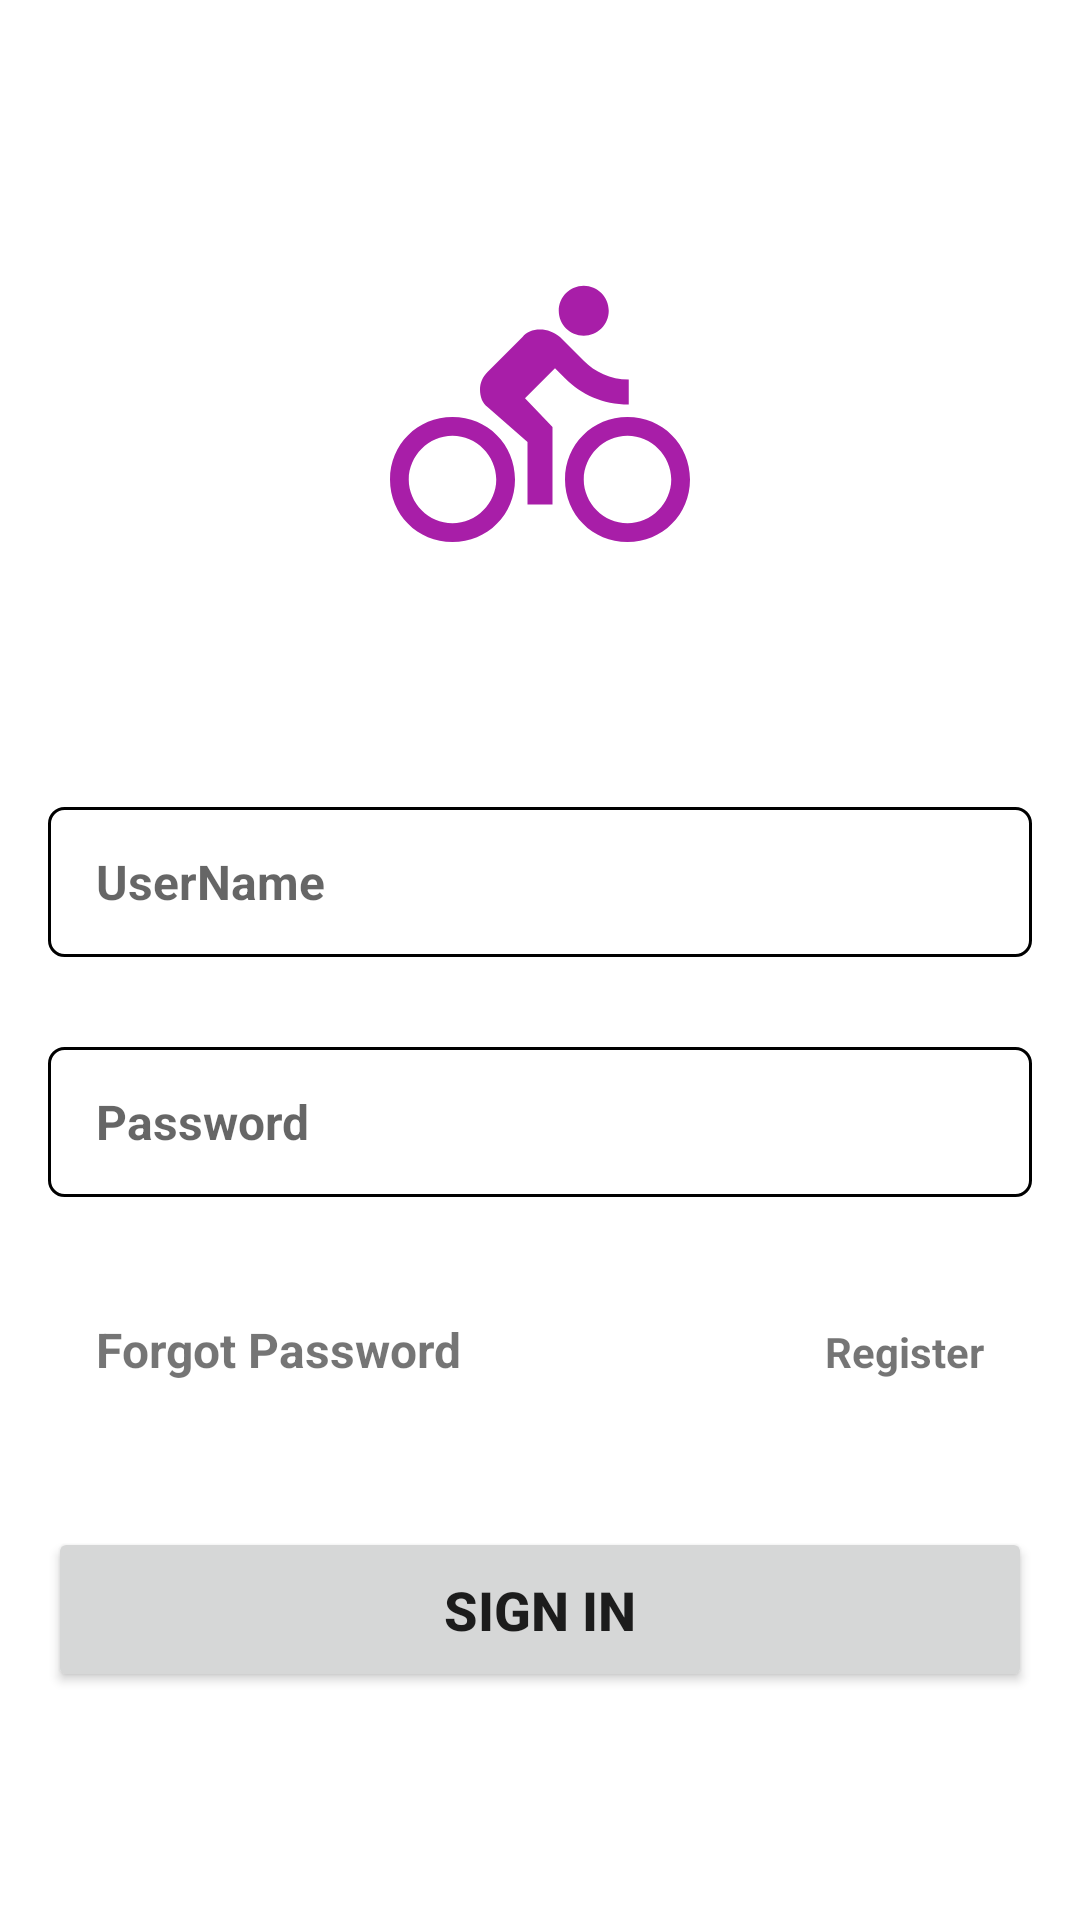

Icons on this 1080px×1920px Android screen, each with its box as [x1,y1,x2,y2]:
directions bike: [390,285,690,542]
